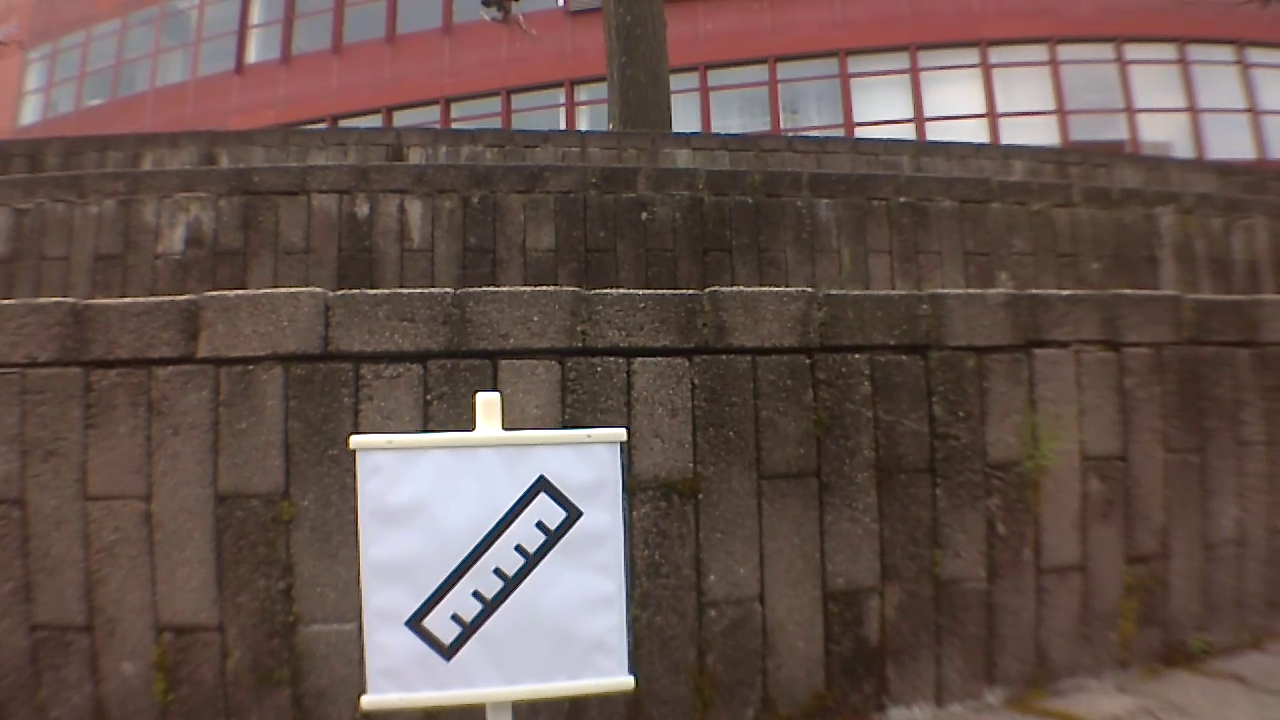ruler: (400, 469, 594, 667)
